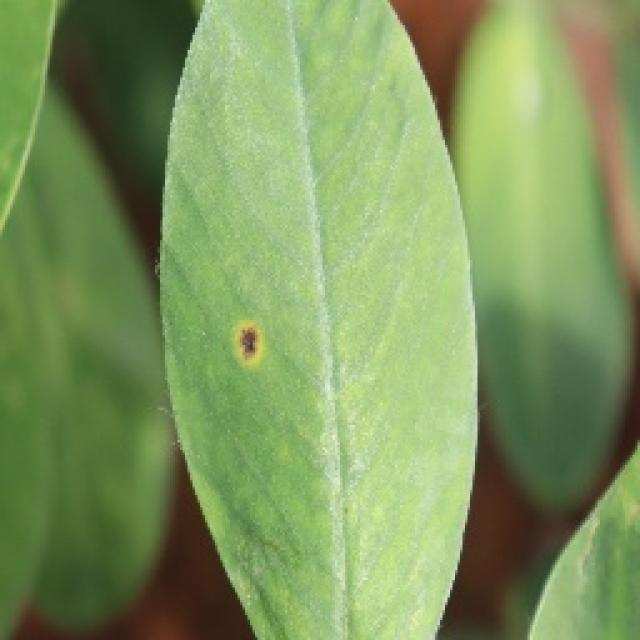Early_leaf_spot: (219, 296, 277, 381)
